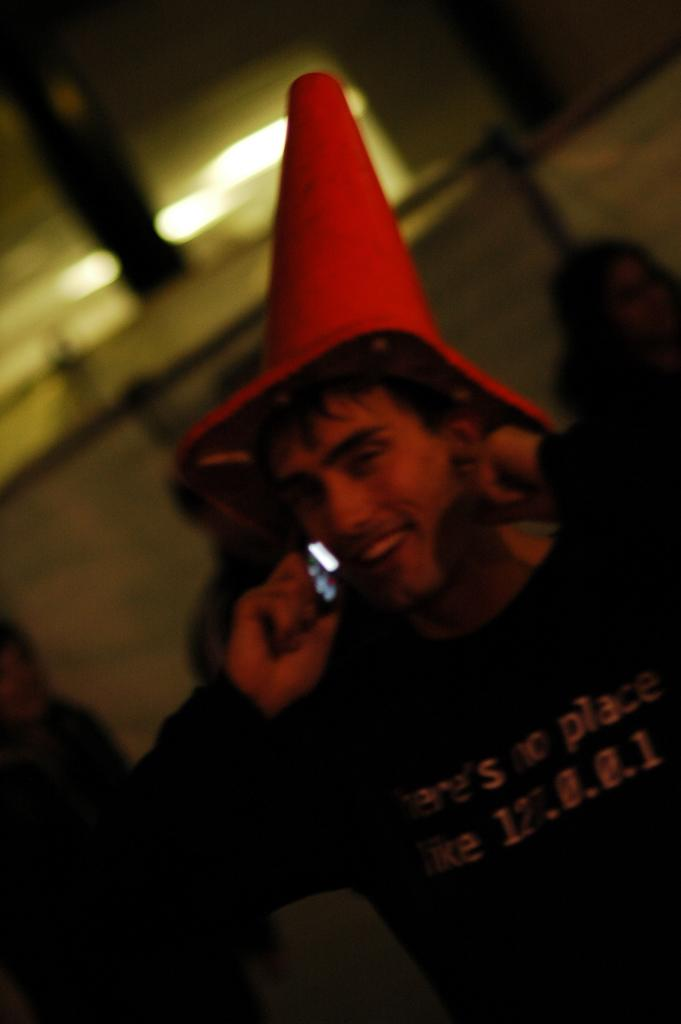Hat: (168, 70, 565, 554)
